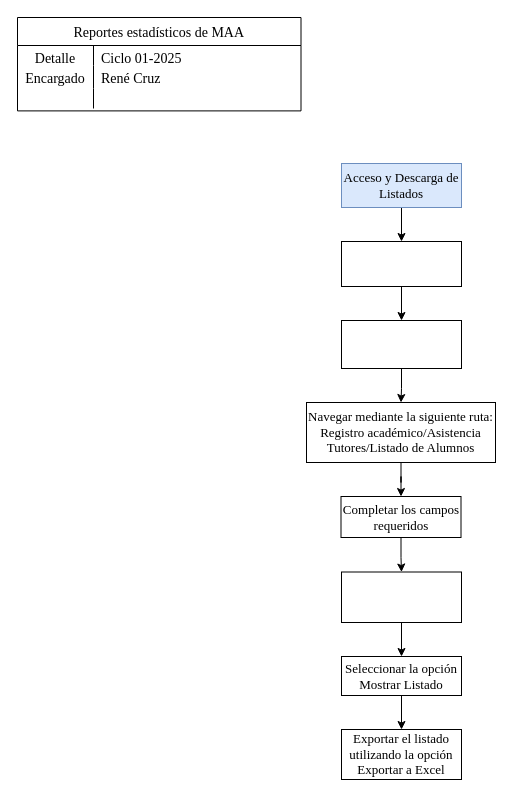
This 513x797 diagram has some shape labels left out. Each missing label, with the centre of its shape:
"Filtrar por el ciclo académico correspondiente" belongs at point 401,596.
"Ingresar al portal institucional" belongs at point 401,263.
"Iniciar sesión con credenciales de docente" belongs at point 401,344.
